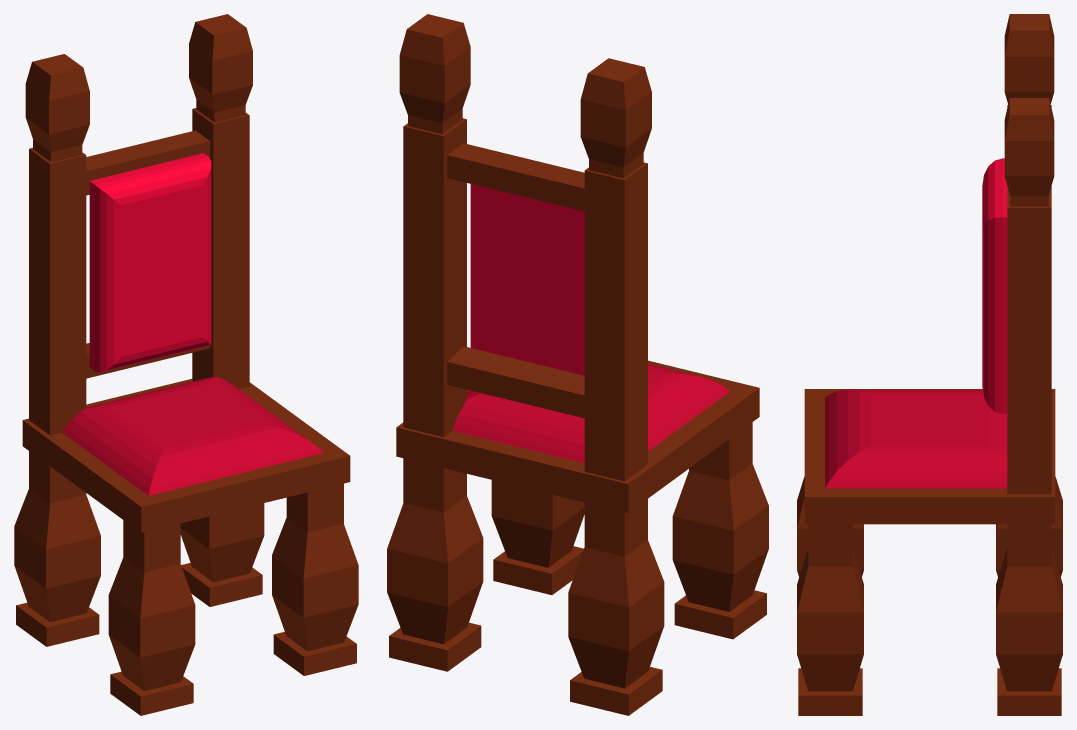
File: Chair_1.fbx
3 renders of one model, left to right at view 1: azimuth 30°, elevation 25°; view 2: azimuth 150°, elevation 25°; view 3: azimuth 270°, elevation 25°, orthographic. The views are drawn at different scales.
Parts seen in each view (by area): view 1: Cher #2; view 2: Cher #2; view 3: Cher #2.
Part boxes in pixels (<box>): Cher #2: <box>14,14,358,715</box>; Cher #2: <box>387,14,768,715</box>; Cher #2: <box>797,14,1062,715</box>.
Bounding box in the file's own units: 57.75 × 143 × 57.75.
